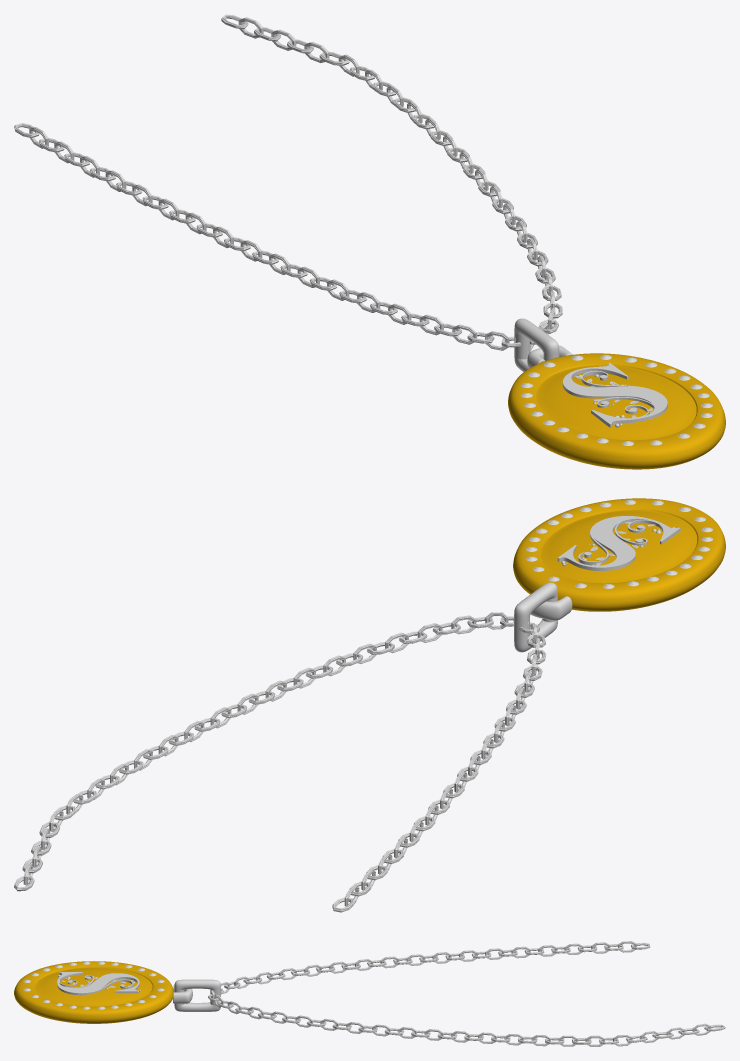
File: Necklace.fbx
3 renders of one model, top to bottom at view 1: azimuth 30°, elevation 25°; view 2: azimuth 150°, elevation 25°; view 3: azimuth 270°, elevation 25°, orthographic. The views are drawn at different scales.
Parts seen in each view (by area): view 1: Torus.001, Torus, Cube, Cube.014, Sphere; view 2: Torus.001, Torus, Cube, Cube.014, Sphere, Cube.013; view 3: Torus, Torus.001, Cube, Cube.014, Sphere, Cube.013.
Part boxes in pixels (<box>): Torus.001: <box>508,353,725,469</box>; Torus: <box>14,14,562,350</box>; Cube: <box>562,363,667,427</box>; Cube.014: <box>514,318,559,371</box>; Sphere: <box>521,355,712,445</box>; Torus.001: <box>513,498,725,611</box>; Torus: <box>14,612,546,912</box>; Cube: <box>557,516,680,570</box>; Cube.014: <box>514,582,557,652</box>; Sphere: <box>526,500,712,588</box>; Cube.013: <box>530,596,572,620</box>; Torus: <box>208,941,725,1046</box>; Torus.001: <box>14,961,173,1023</box>; Cube: <box>57,972,139,995</box>; Cube.014: <box>174,979,220,1011</box>; Sphere: <box>23,961,164,1009</box>; Cube.013: <box>173,984,192,1003</box>.
Bounding box in the file's own units: 366 × 52.62 × 1098.
